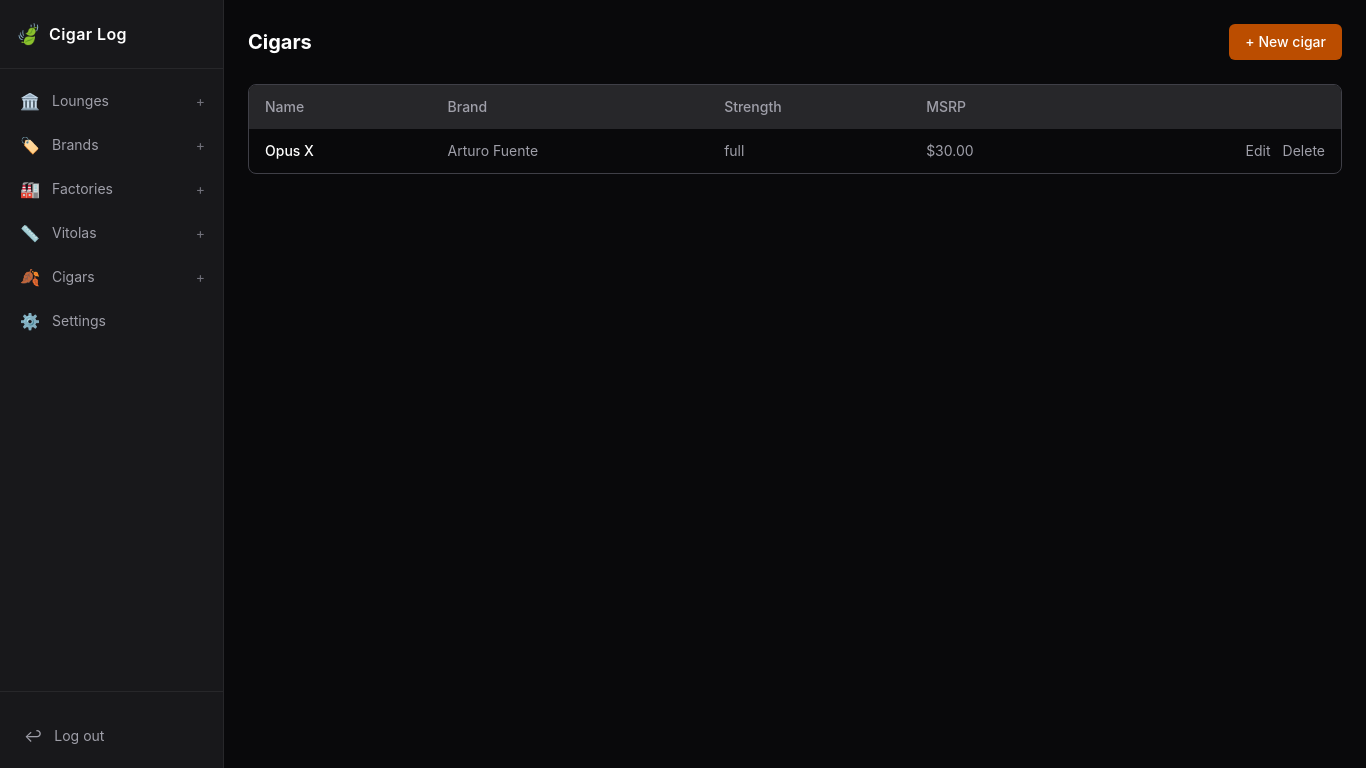
CigarsPage › opens create modal when New cigar is clicked
What coordinates should you click on to do the following:
click the button "+ New cigar"
I would click on:
 (1286, 42)
Its box is [1229, 24, 1342, 60].
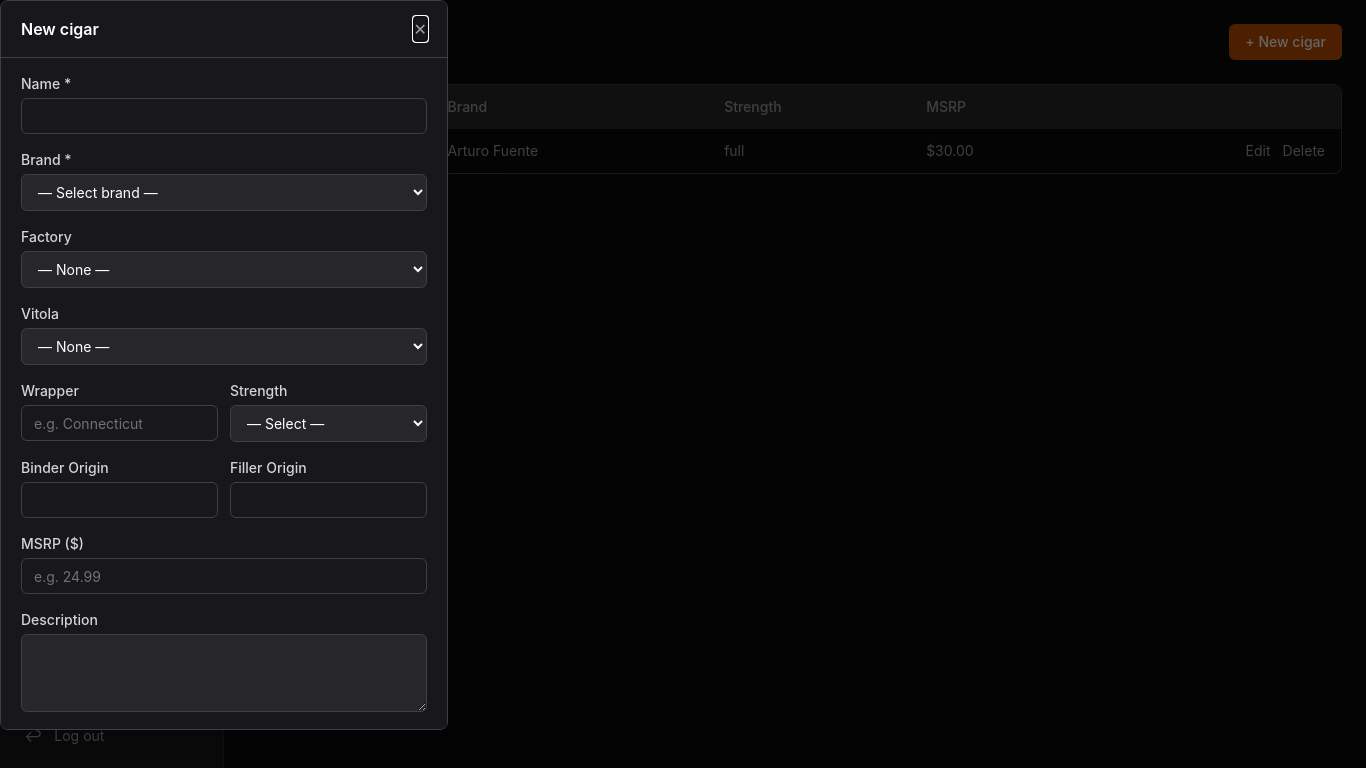
Check: the heading "New cigar" is shown, box [21, 17, 99, 41]
Check: the field below "Name *" is shown, box [21, 98, 427, 134]
